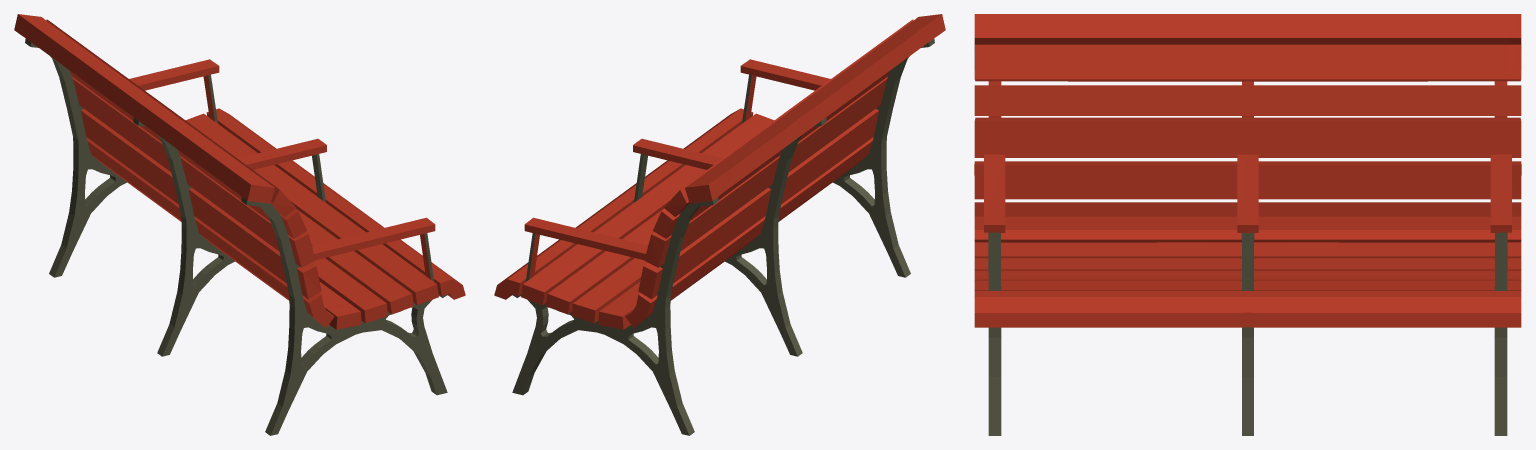
File: webGL_Bench_Scene.dae
3 renders of one model, left to right at view 1: azimuth 30°, elevation 25°; view 2: azimuth 150°, elevation 25°; view 3: azimuth 270°, elevation 25°, orthographic. The views are drawn at different scales.
Visible parts, largest first — view 1: Bench; view 2: Bench; view 3: Bench.
Boxes of the visible parts, left/top/right/bottom form: Bench: left=14, top=14, right=465, bottom=435; Bench: left=494, top=14, right=945, bottom=435; Bench: left=974, top=14, right=1521, bottom=435.
Size of what is drawn, in the model's own units: 4.14 by 7.69 by 4.75.
